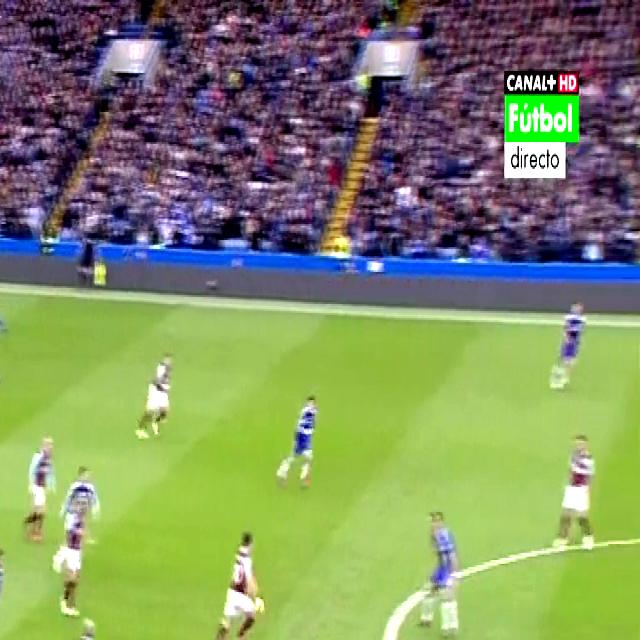ball: (250, 589, 269, 620)
referee: (78, 210, 108, 295), (48, 610, 107, 640)
soccer-player: (412, 496, 470, 640), (204, 512, 268, 640), (551, 423, 600, 559), (272, 382, 324, 498), (130, 339, 180, 447), (544, 286, 588, 400), (63, 454, 103, 568), (21, 423, 56, 543), (56, 503, 90, 624), (0, 282, 6, 386), (0, 537, 4, 640)
